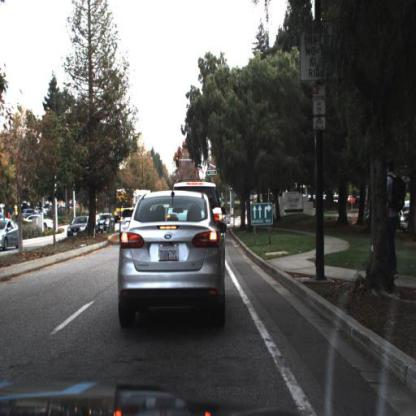car: (118, 189, 224, 337), (69, 217, 92, 238), (209, 186, 220, 225), (98, 213, 114, 236), (121, 210, 133, 240)
pedestrian: (387, 153, 405, 277)
trafficLight: (176, 157, 180, 168)
